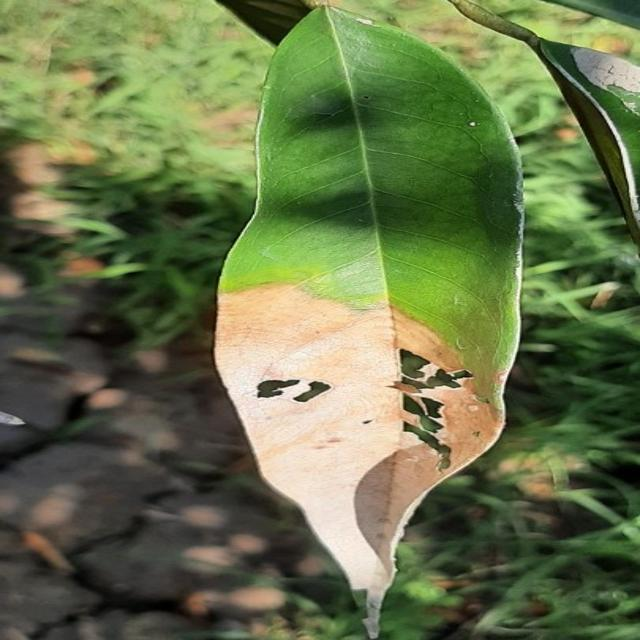Leaf Blight: (206, 7, 551, 640)
